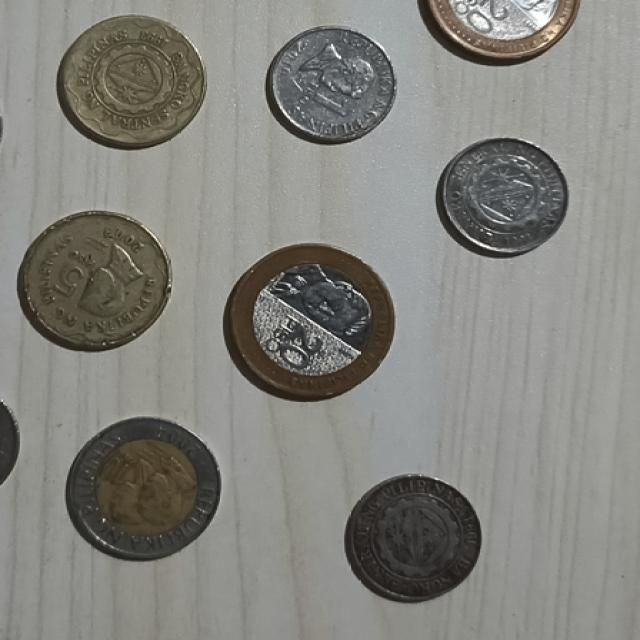10_peso: (67, 418, 219, 559)
1_peso: (346, 475, 480, 601), (267, 31, 390, 142), (441, 142, 563, 250)
20_peso: (229, 245, 393, 399), (427, 0, 579, 59)
5_peso: (19, 212, 170, 350), (60, 16, 204, 147)
